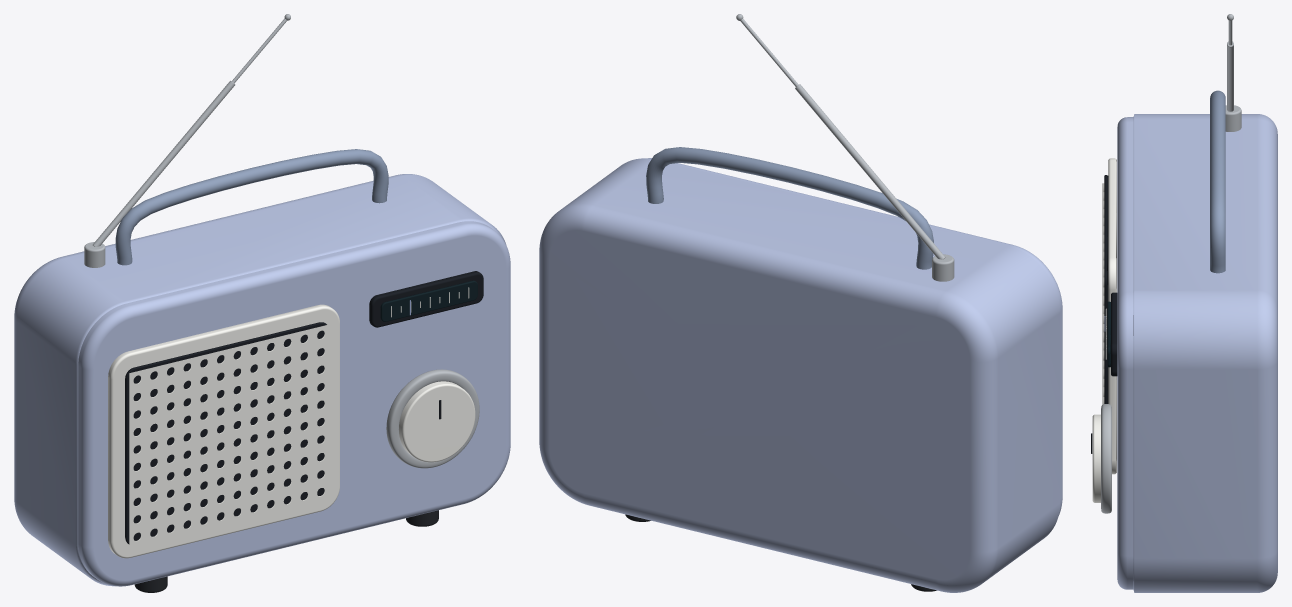
Rendered from portable-radio.glb.
The picture shows the model from 3 angles, left to right: view 1: azimuth 30°, elevation 25°; view 2: azimuth 150°, elevation 25°; view 3: azimuth 270°, elevation 25°; orthographic projection. The views are drawn at different scales.
Parts seen in each view (by area): view 1: matching-radius-rounded-radio-front, hollow-rounded-housing, fitted-speaker-grille-005, fitted-rounded-panel (×3), rounded-speaker-grille-surround, attached-carrying-handle-and-antenna-socket-021, turning-tuning-dial-019, machined-annular-ring, attached-carrying-handle-and-antenna-socket-023; view 2: hollow-rounded-housing, attached-carrying-handle-and-antenna-socket-021, matching-radius-rounded-radio-front, attached-carrying-handle-and-antenna-socket-023; view 3: hollow-rounded-housing, matching-radius-rounded-radio-front, attached-carrying-handle-and-antenna-socket-021, fitted-rounded-panel (×3), rounded-speaker-grille-surround, machined-annular-ring, turning-tuning-dial-019, fitted-speaker-grille-005, attached-carrying-handle-and-antenna-socket-023, attached-carrying-handle-and-antenna-socket-022.
Boxes of the visible parts, x1,y1,x2,y2 form: matching-radius-rounded-radio-front: (78, 221, 510, 586); hollow-rounded-housing: (14, 174, 506, 586); fitted-speaker-grille-005: (129, 324, 329, 547); fitted-rounded-panel (×3): (125, 271, 483, 544); rounded-speaker-grille-surround: (108, 304, 339, 558); attached-carrying-handle-and-antenna-socket-021: (115, 149, 388, 265); turning-tuning-dial-019: (399, 381, 475, 462); machined-annular-ring: (386, 369, 479, 468); attached-carrying-handle-and-antenna-socket-023: (92, 80, 235, 246); hollow-rounded-housing: (539, 158, 1060, 592); attached-carrying-handle-and-antenna-socket-021: (646, 147, 933, 269); matching-radius-rounded-radio-front: (647, 158, 1062, 515); attached-carrying-handle-and-antenna-socket-023: (795, 84, 945, 259); hollow-rounded-housing: (1133, 114, 1277, 592); matching-radius-rounded-radio-front: (1117, 117, 1133, 589); attached-carrying-handle-and-antenna-socket-021: (1210, 90, 1225, 273); fitted-rounded-panel (×3): (1104, 175, 1117, 403); rounded-speaker-grille-surround: (1108, 158, 1116, 474); machined-annular-ring: (1101, 404, 1111, 513); turning-tuning-dial-019: (1092, 414, 1100, 502); fitted-speaker-grille-005: (1102, 183, 1104, 404); attached-carrying-handle-and-antenna-socket-023: (1227, 41, 1233, 111); attached-carrying-handle-and-antenna-socket-022: (1225, 105, 1241, 131).
Size of the model in its own units: 1.81 by 2 by 0.6466.
